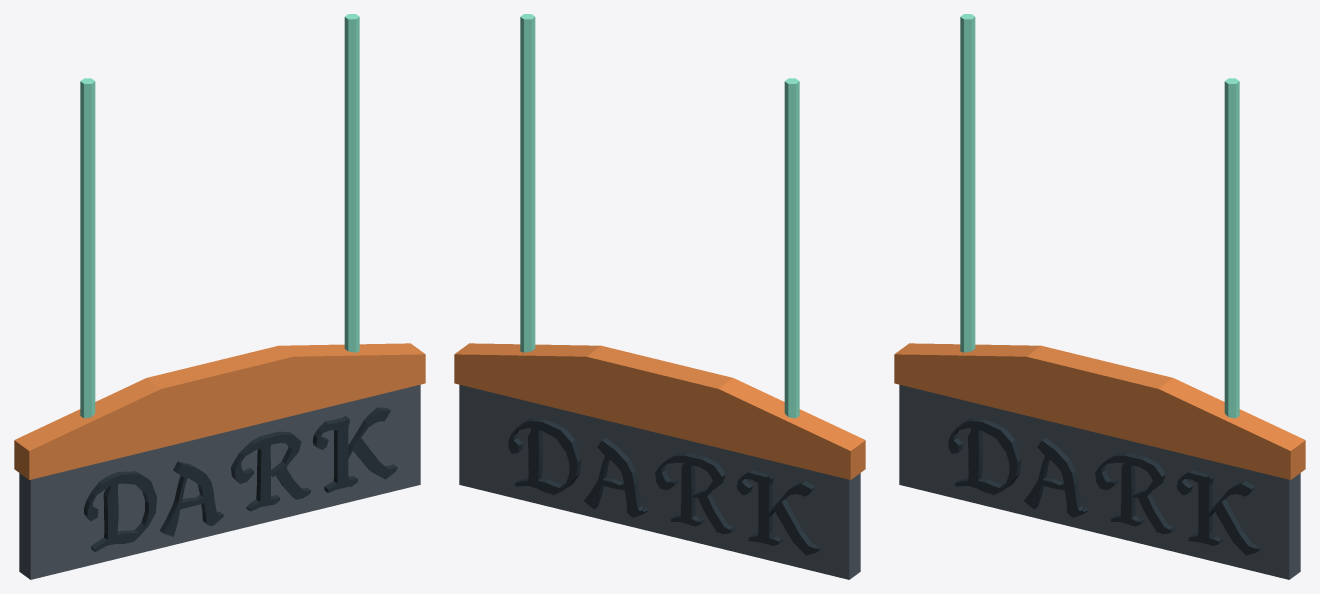
File: StoreSigns.fbx_Dark.fbx
3 renders of one model, left to right at view 1: azimuth 30°, elevation 25°; view 2: azimuth 150°, elevation 25°; view 3: azimuth 330°, elevation 25°, orthographic.
Parts seen in each view (by area): view 1: Dark; view 2: Dark; view 3: Dark.
Part boxes in pixels (x1,y1,x2,y2): Dark: (14, 14, 425, 579); Dark: (454, 14, 865, 579); Dark: (894, 14, 1305, 579).
Size of the model in its own units: 52 by 610 by 705.
